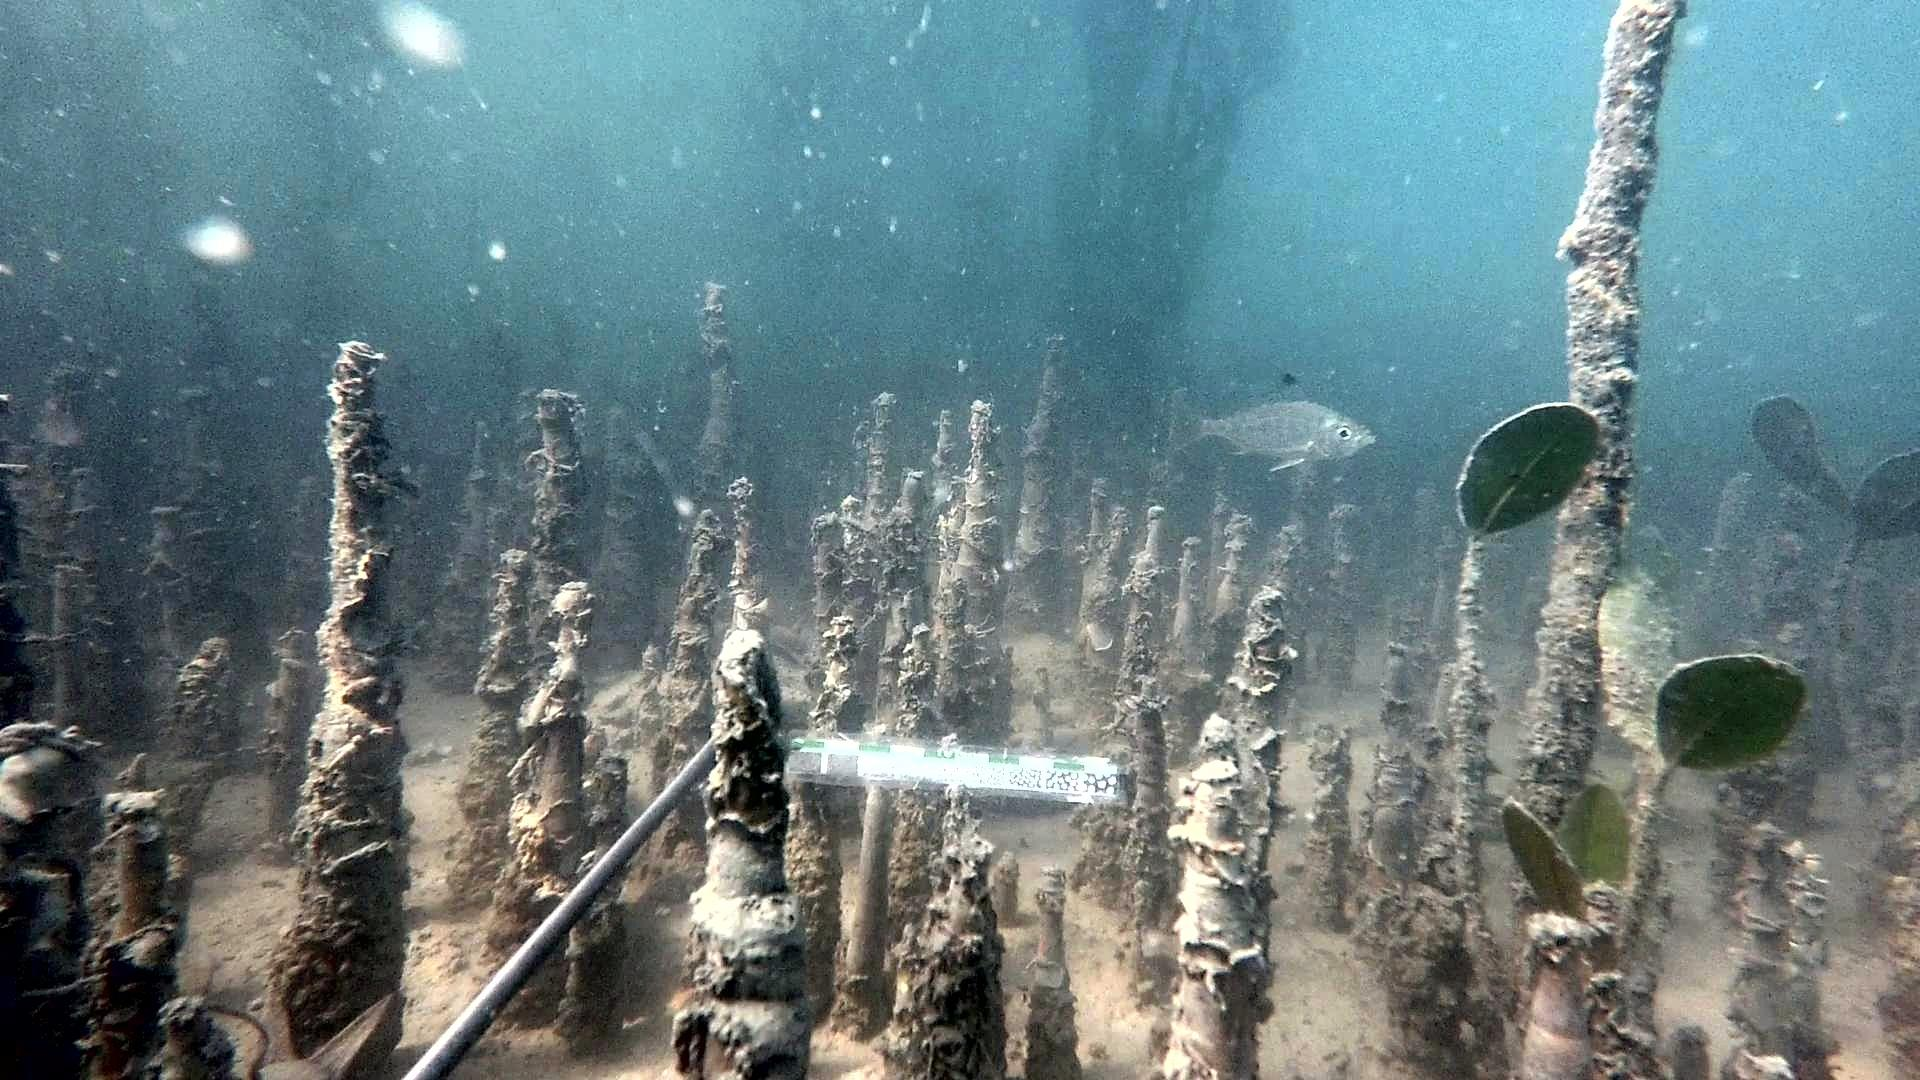gerres: (1164, 371, 1379, 473)
